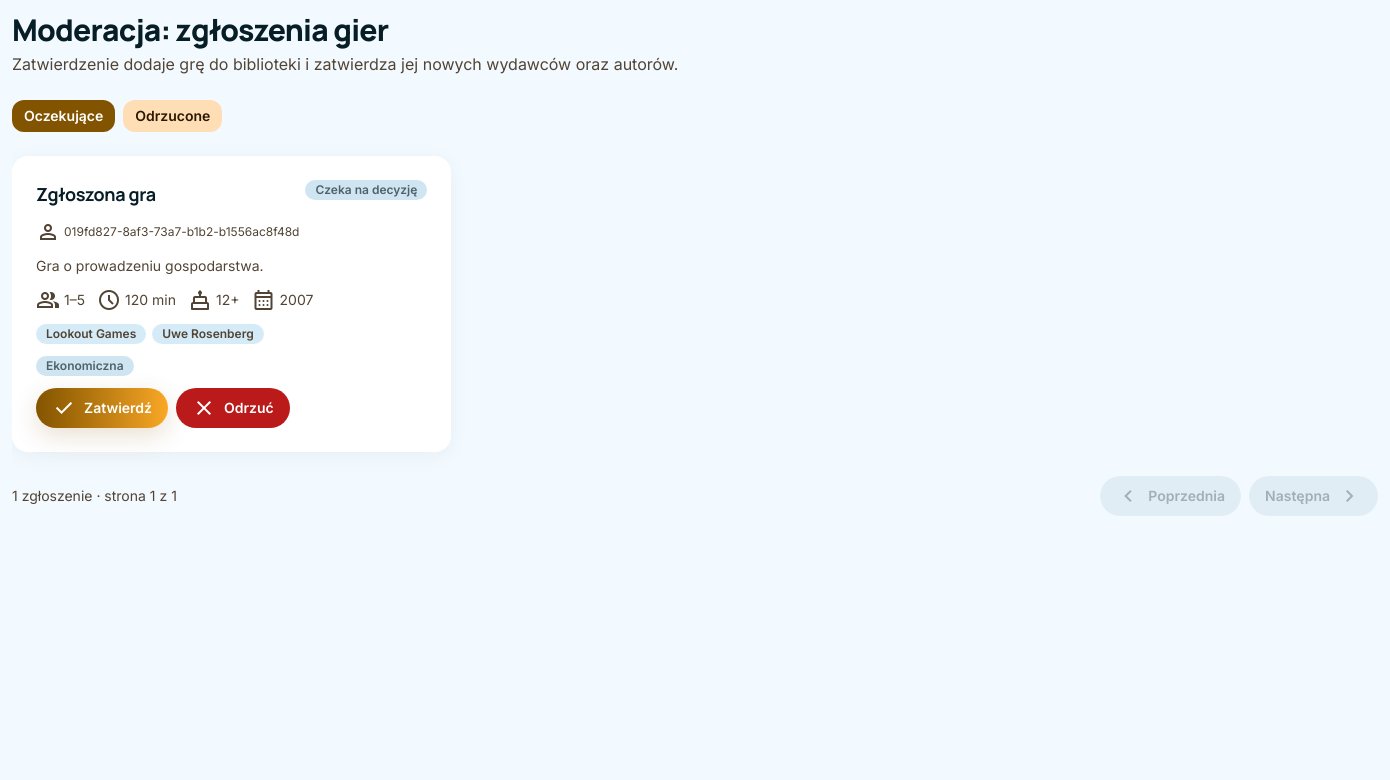
Test: GameModerationPage › decyzja podjęta przez kogoś innego mówi o odświeżeniu listy
The image size is (1390, 780).
Click the button "Zatwierdź". click: click(102, 408)
box: [36,388,168,428]
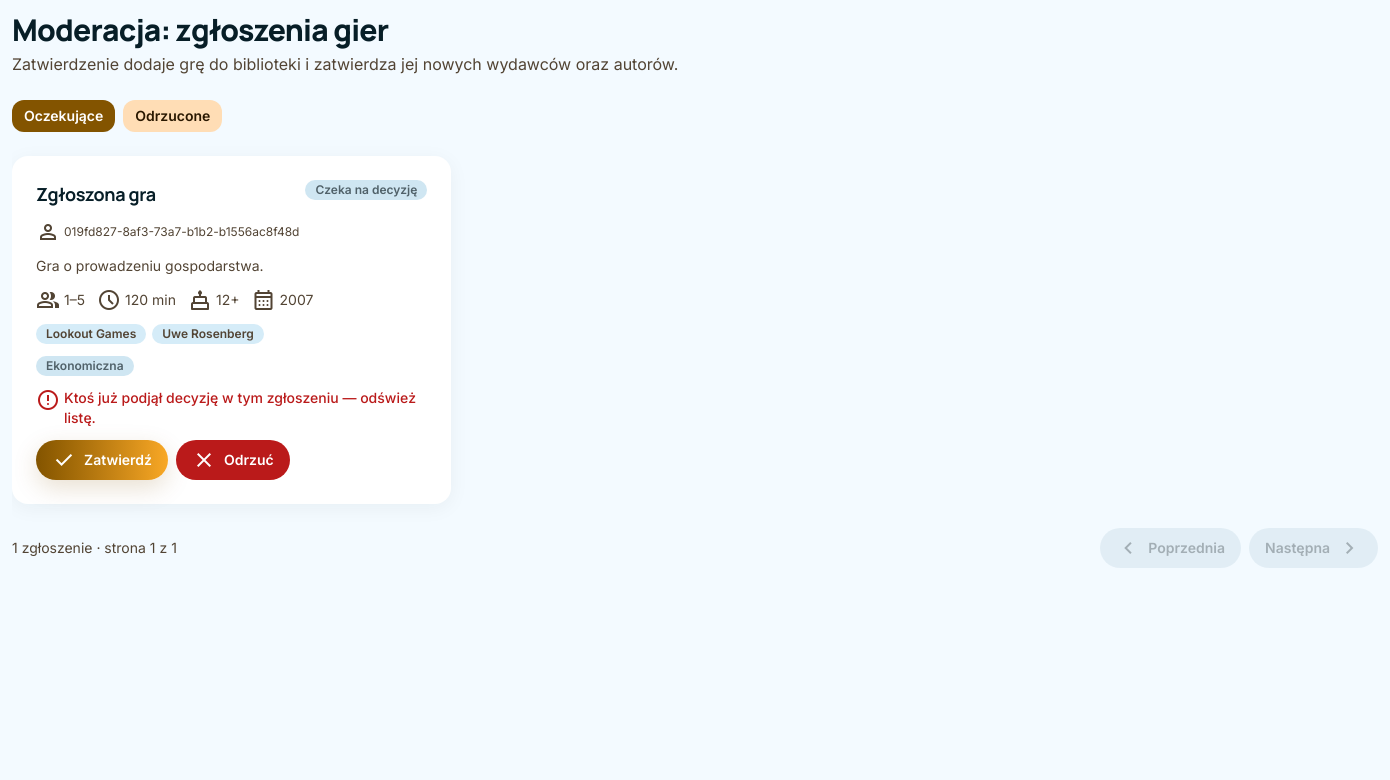
Check: the text "Ktoś już podjął decyzję w tym zgłoszeniu — odśwież listę." is shown, box [36,388,427,428]
